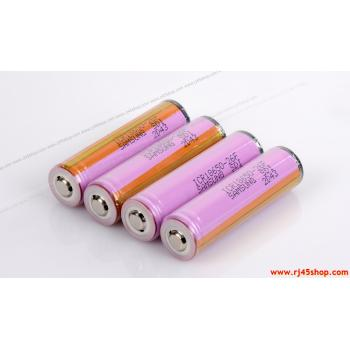Battery: (158, 143, 306, 263), (118, 128, 266, 243), (81, 114, 229, 229), (46, 97, 193, 212)
